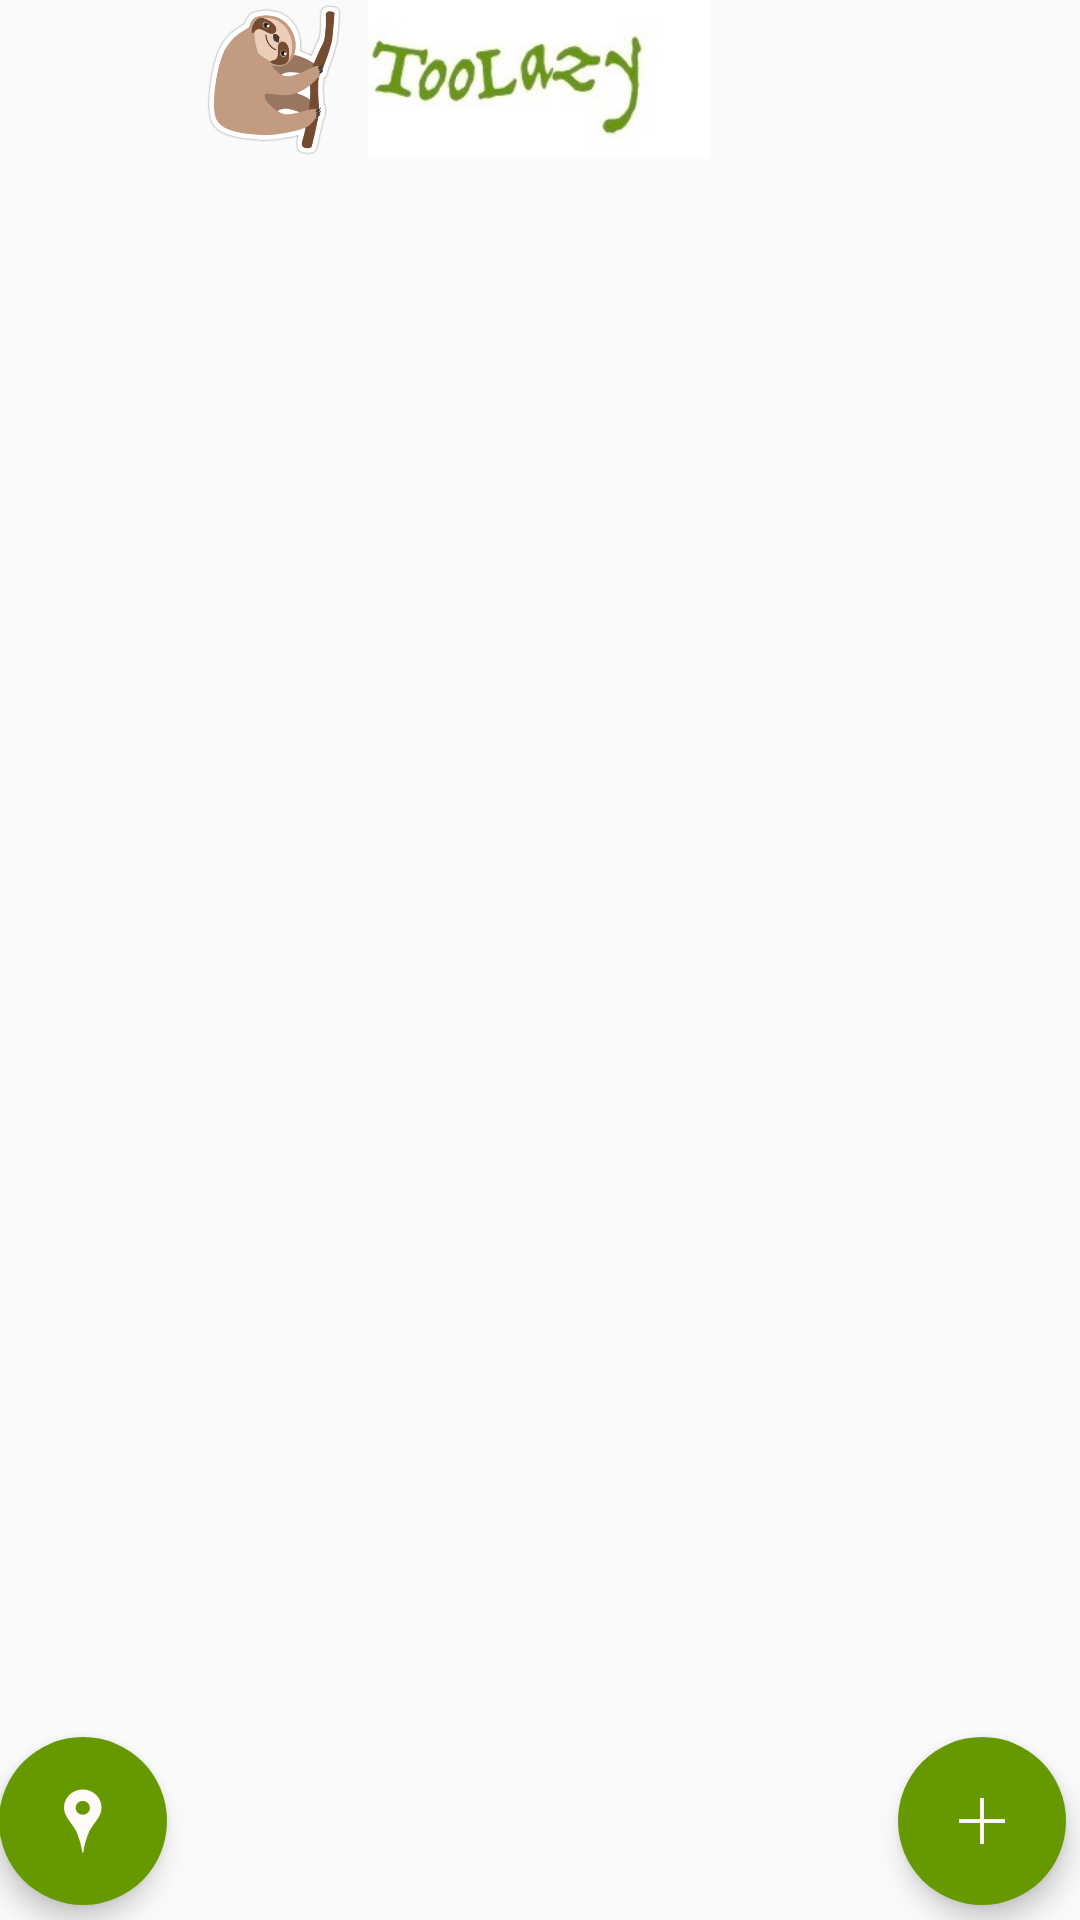

Where icons sit on this 1080 x 1920 app screen, as (x1, y1, x2, y2):
add: (898, 1737, 1066, 1905)
map: (0, 1737, 167, 1905)
slooth: (208, 6, 340, 154)
